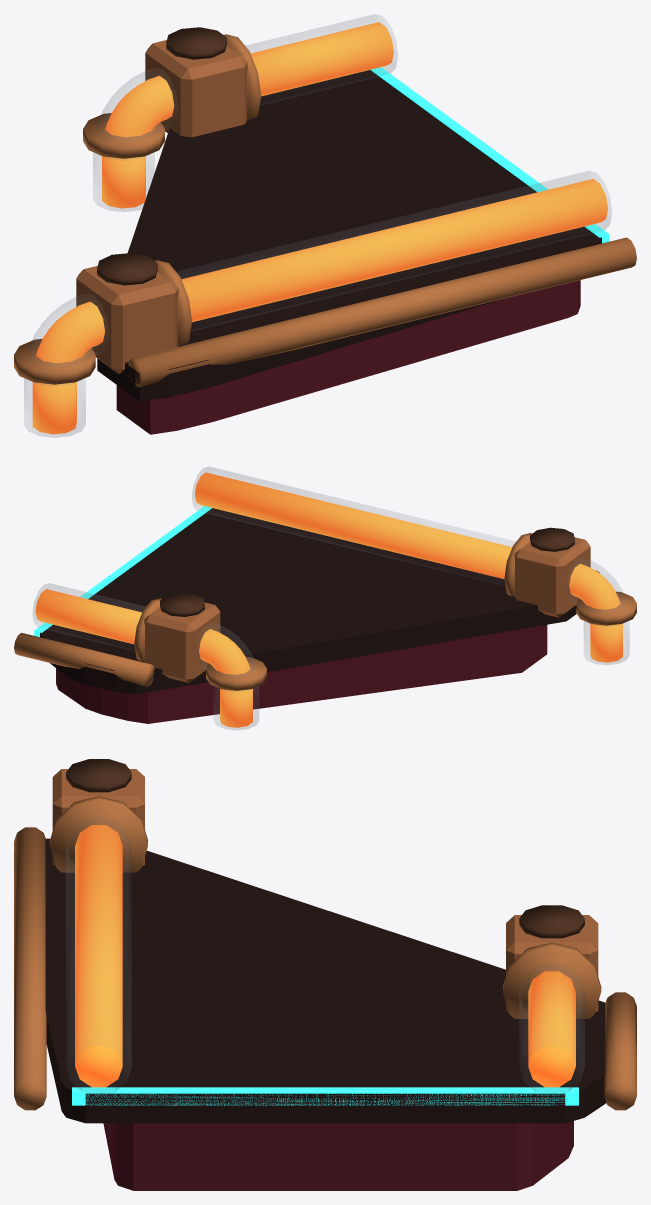
The model's file is Pier_Angled_35.glb.
3 renders of one model, top to bottom at view 1: azimuth 30°, elevation 25°; view 2: azimuth 150°, elevation 25°; view 3: azimuth 270°, elevation 25°, orthographic. The views are drawn at different scales.
Parts seen in each view (by area): view 1: CP_Pier_Angled_35; view 2: CP_Pier_Angled_35; view 3: CP_Pier_Angled_35.
Boxes of the visible parts, x1,y1,x2,y2 form: CP_Pier_Angled_35: (14,14,636,437); CP_Pier_Angled_35: (14,467,636,730); CP_Pier_Angled_35: (14,759,636,1190).
Bounding box in the file's own units: 4.73 × 1.31 × 4.18.
